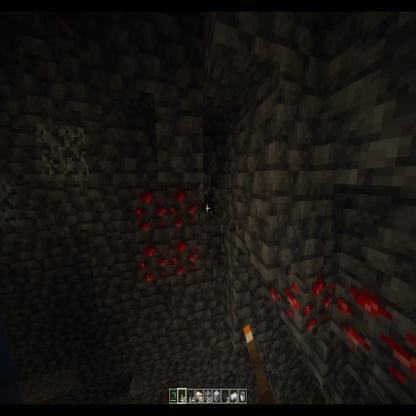redstone ore: (331, 269, 416, 397), (268, 270, 337, 341), (128, 185, 169, 239), (167, 177, 202, 238), (134, 243, 172, 293), (170, 236, 204, 286)
